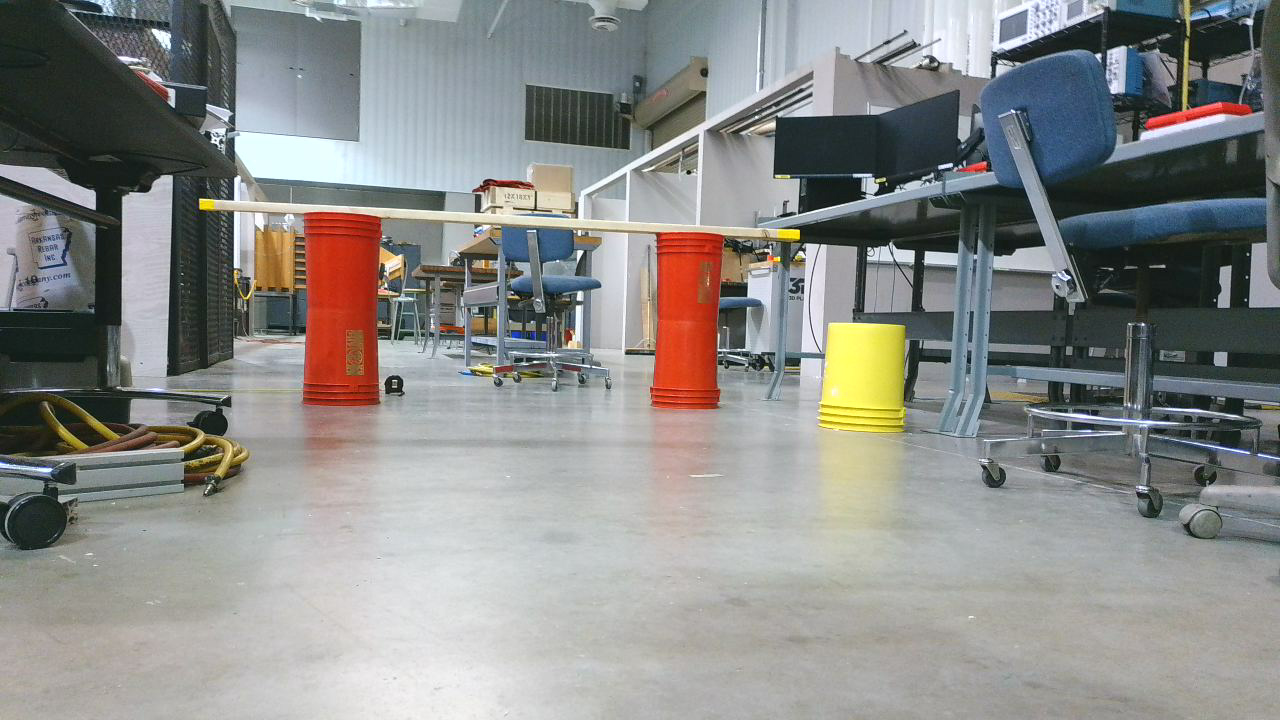red_bucket_arch: (306, 215, 727, 411)
yellow_bucket: (822, 325, 915, 442)
